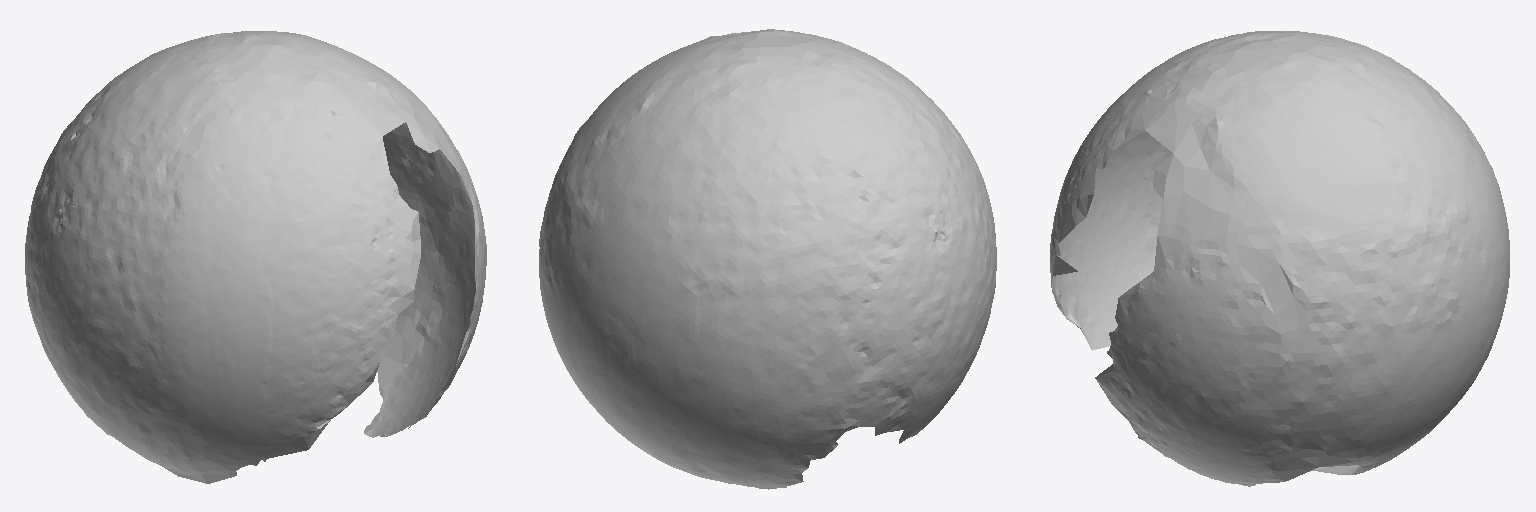
The model's file is Gridtest_0_1_2.000001.obj.
3 renders of one model, left to right at view 1: azimuth 30°, elevation 25°; view 2: azimuth 150°, elevation 25°; view 3: azimuth 270°, elevation 25°, orthographic.
Bounding box in the file's own units: 300 × 293 × 299.